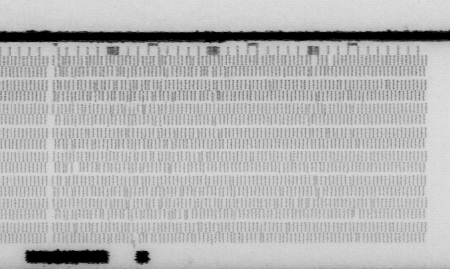Broken hole: (325, 54, 338, 69), (309, 55, 321, 67), (70, 163, 83, 174)
Oblique printing: (56, 55, 223, 249), (258, 196, 316, 218), (310, 172, 323, 197), (350, 207, 363, 221), (309, 89, 324, 101), (280, 220, 292, 234), (350, 232, 363, 244), (254, 232, 266, 245)
